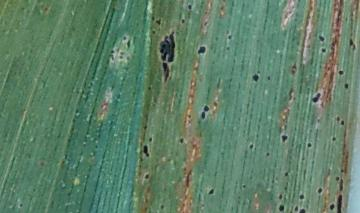tarspot: (159, 32, 175, 62), (162, 62, 170, 83), (337, 193, 343, 213), (142, 144, 149, 159), (312, 93, 322, 103), (350, 38, 357, 51), (197, 46, 206, 55), (339, 178, 344, 193), (200, 108, 206, 119), (281, 135, 289, 143), (252, 73, 259, 82), (318, 34, 325, 42), (118, 51, 125, 59), (178, 136, 184, 145), (278, 203, 284, 212), (126, 39, 131, 49), (155, 18, 162, 25), (335, 115, 341, 123), (329, 203, 335, 211), (203, 104, 209, 111), (186, 3, 192, 10), (208, 188, 214, 195), (320, 47, 327, 53), (338, 69, 344, 76), (306, 141, 312, 148), (283, 170, 289, 177), (317, 187, 323, 194), (18, 201, 24, 208), (144, 172, 149, 180), (266, 74, 271, 82), (298, 208, 306, 213), (180, 18, 186, 24), (142, 124, 148, 130), (340, 120, 346, 126), (331, 136, 337, 142), (227, 34, 233, 40), (339, 168, 345, 174), (278, 193, 283, 200), (122, 35, 127, 42), (147, 85, 152, 91), (151, 29, 157, 34), (249, 143, 254, 149), (160, 204, 165, 210), (299, 194, 304, 200), (110, 49, 115, 55), (294, 205, 298, 212), (148, 137, 153, 142), (265, 152, 270, 157), (242, 183, 246, 189), (345, 83, 349, 89), (336, 176, 339, 181)
